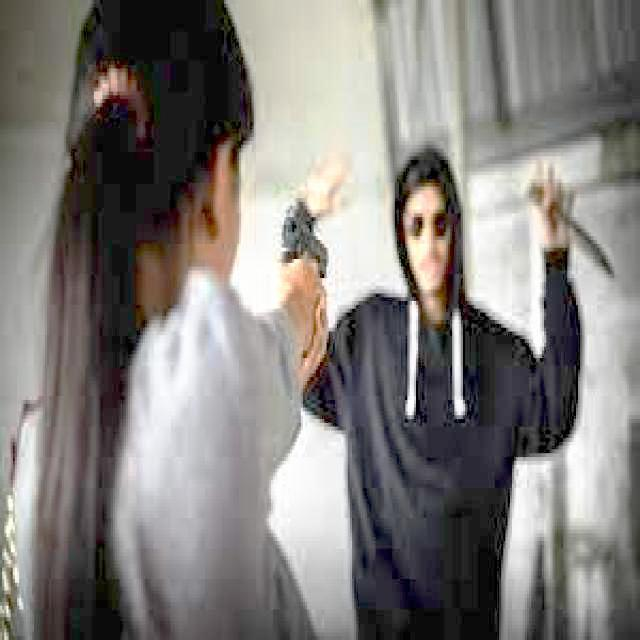Gun: (273, 212, 347, 286)
